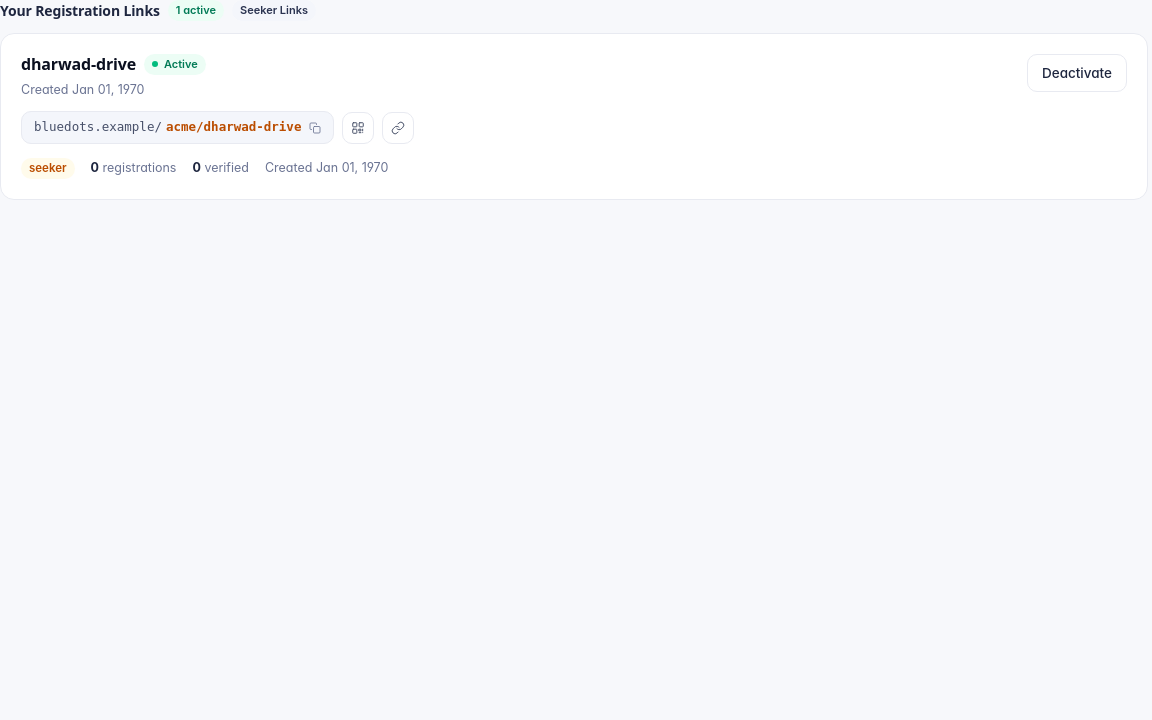
<YourLinksBody /> › QR modal: shows the error state and logs when generation fails
The image size is (1152, 720).
What coordinates should you click on to do the following:
click the button titled "View QR"
I would click on:
 (358, 128)
Its box is [342,112,374,144].
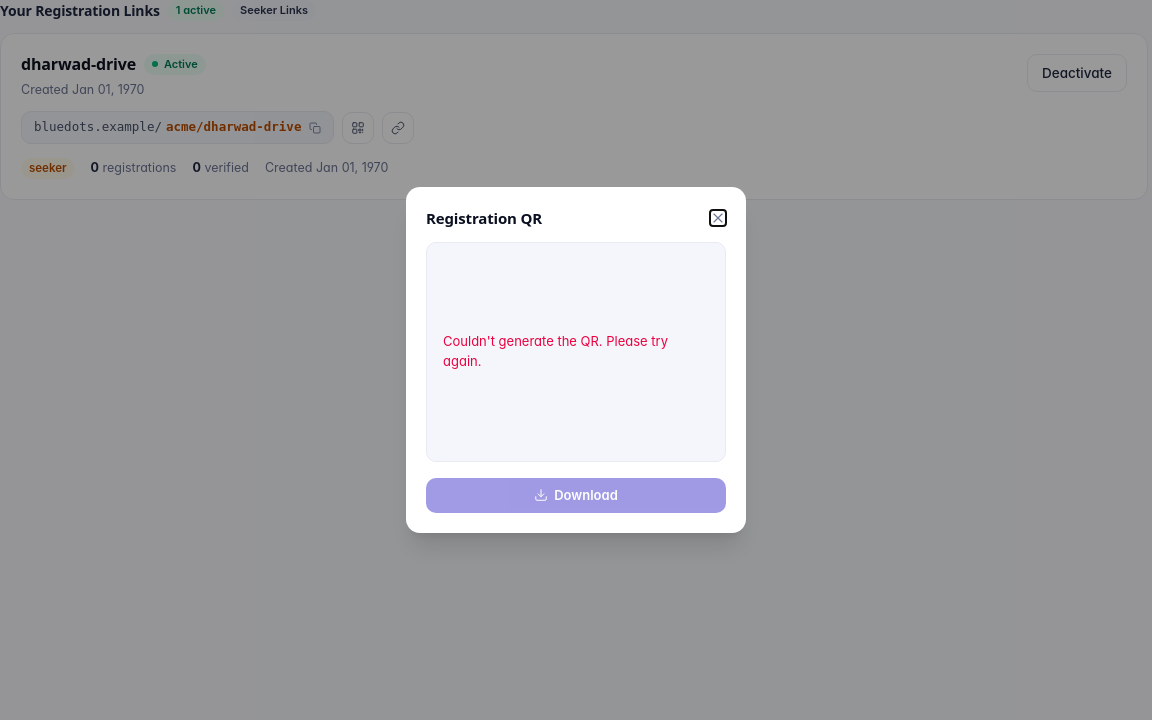
Expected: the text "Couldn't generate the QR. Please try again." is shown, [443,333,668,368]
